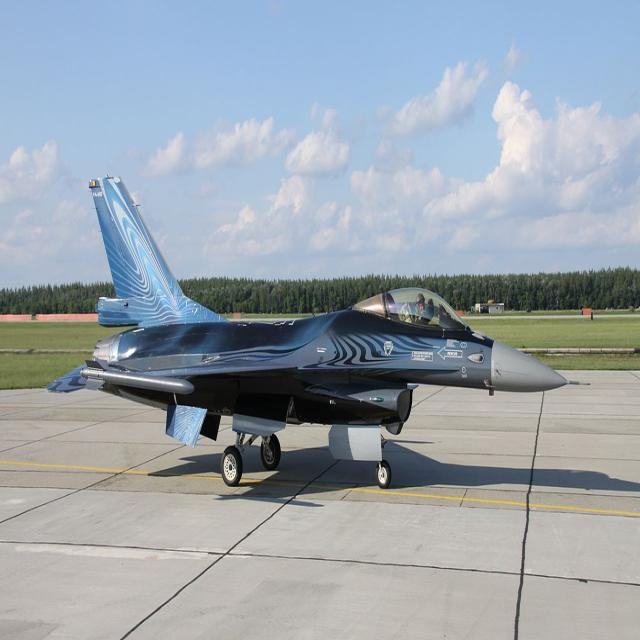MIL_Plane: (46, 172, 592, 488)
